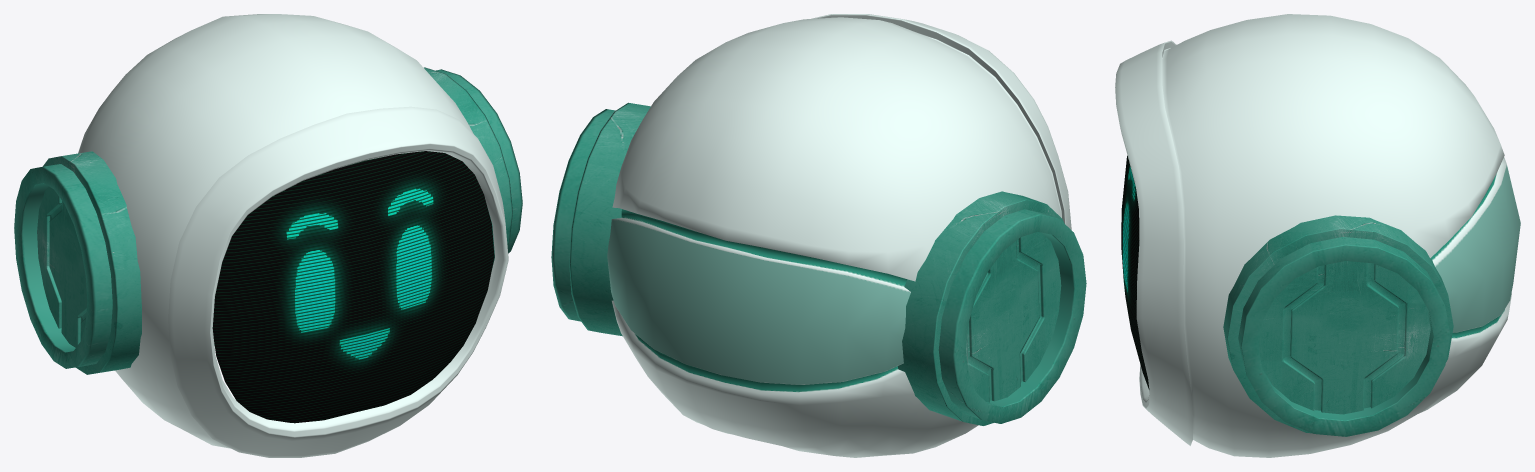
File: head_01.glb
3 renders of one model, left to right at view 1: azimuth 30°, elevation 25°; view 2: azimuth 150°, elevation 25°; view 3: azimuth 270°, elevation 25°, orthographic. The views are drawn at different scales.
Visible parts, largest first — view 1: head, mask, ear; view 2: head, ear; view 3: head, ear, mask.
Part boxes in pixels (bbox=[...]): head: bbox=[78, 14, 508, 457]; mask: bbox=[212, 151, 494, 423]; ear: bbox=[14, 67, 522, 374]; head: bbox=[607, 14, 1071, 457]; ear: bbox=[551, 102, 1086, 425]; head: bbox=[1115, 14, 1520, 457]; ear: bbox=[1223, 215, 1453, 436]; mask: bbox=[1121, 155, 1149, 389].
Bounding box in the file's own units: 0.0778 × 0.0671 × 0.062.
Materials: 2 (2 with a texture image).
